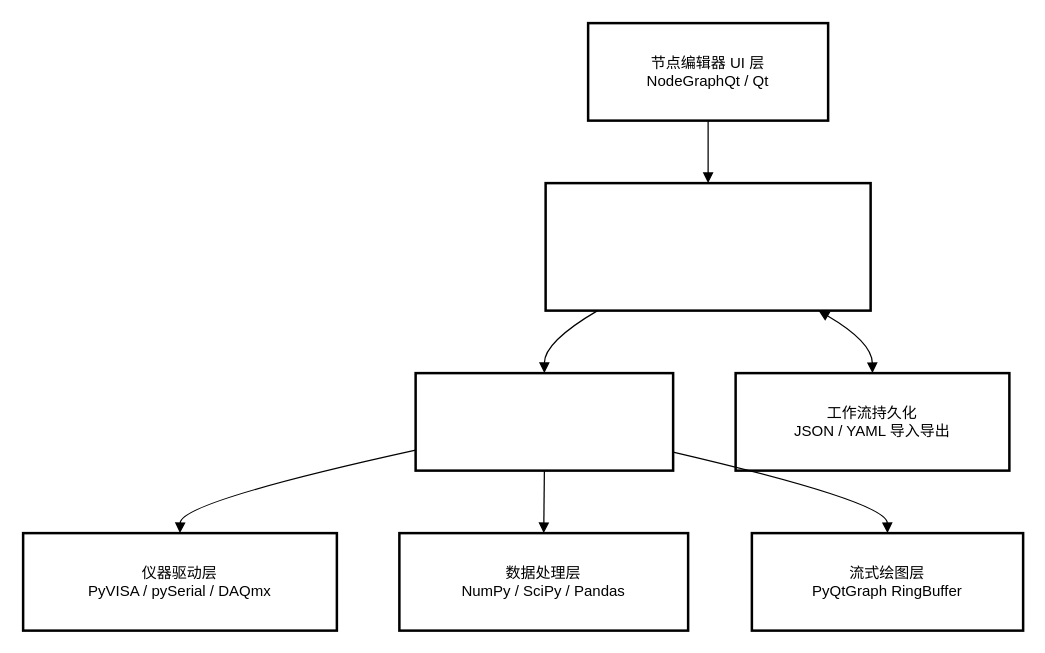
Some shapes in this 1045 by 653 pixel diagram are drawn without their labels. Here are the shapes that lost their labels. From the top down, the centre of each, then its label:
[707,246]: 工作流模型层 Graph JSON / NetworkX DiGraph
[544,421]: 调度执行引擎 拓扑排序 + 异步执行
